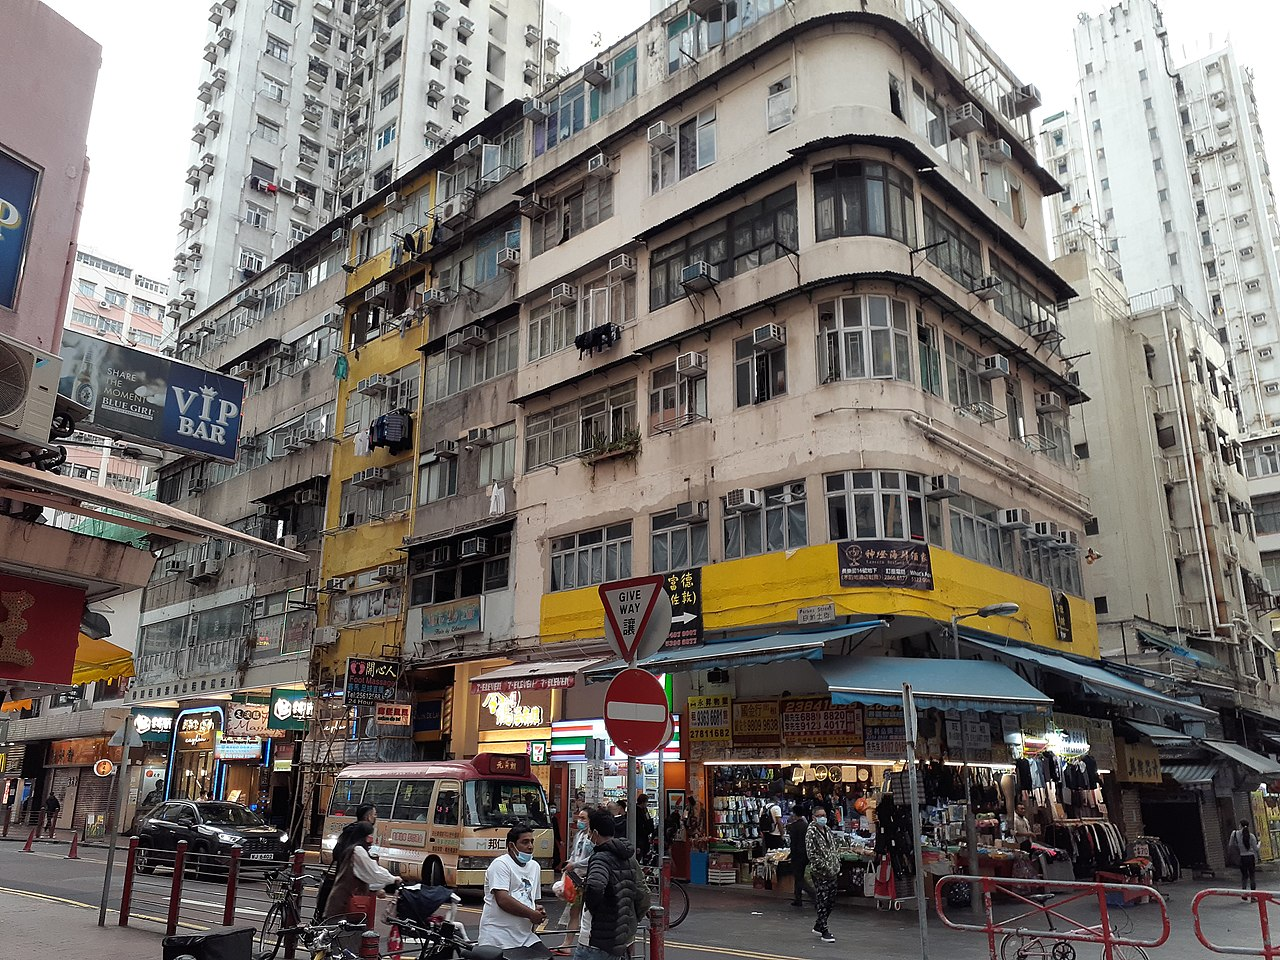Give Way: (592, 573, 673, 659)
No Enter: (603, 669, 672, 757)
